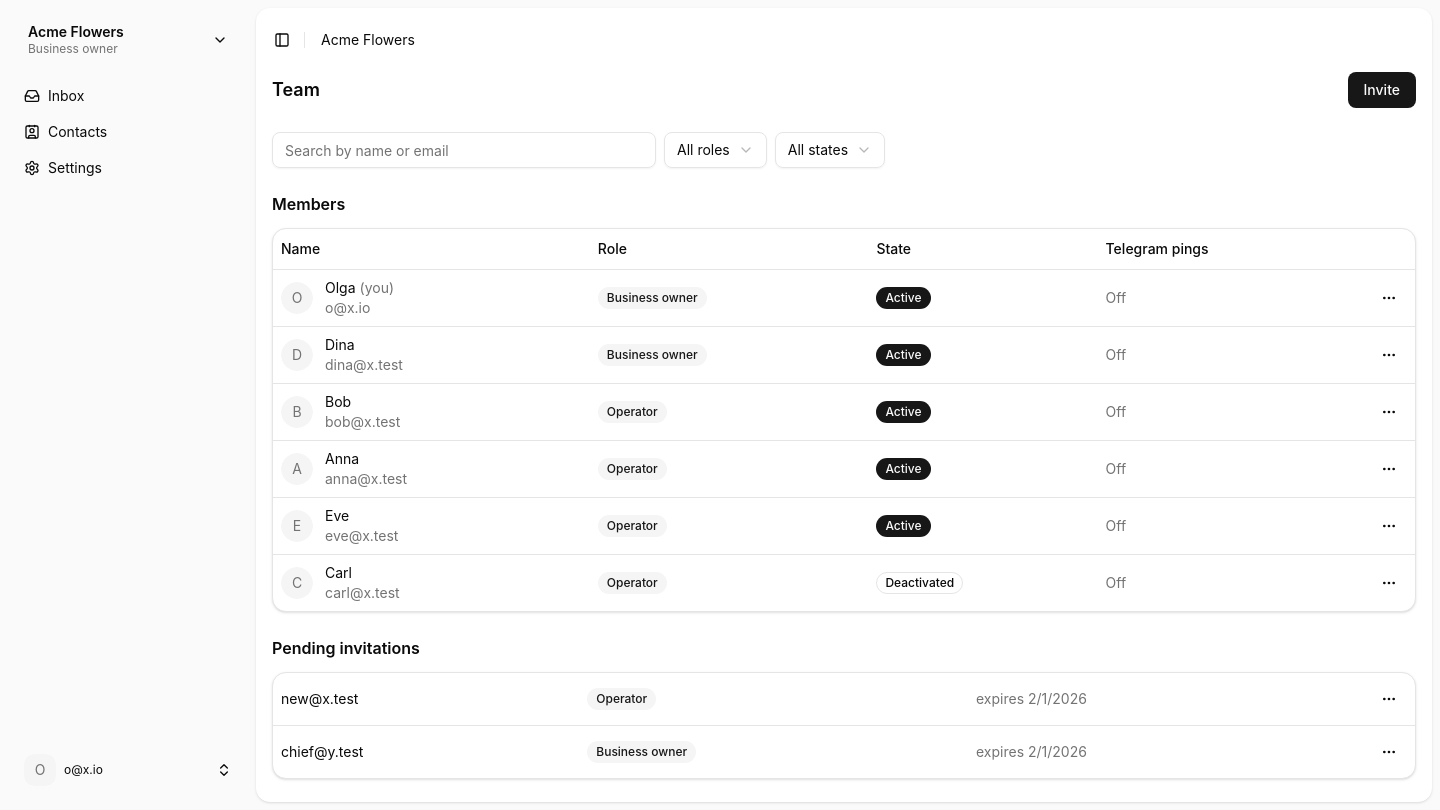
Scenario: Team filters (SCR-12, AC-08) › the search is case-insensitive over name and email
Expected: the text "Bob" is shown, [325, 392, 351, 410]
Step 1. Type "ANNA@X" into the field with placeholder "Search by name or email" → (464, 150), box [272, 132, 656, 168]
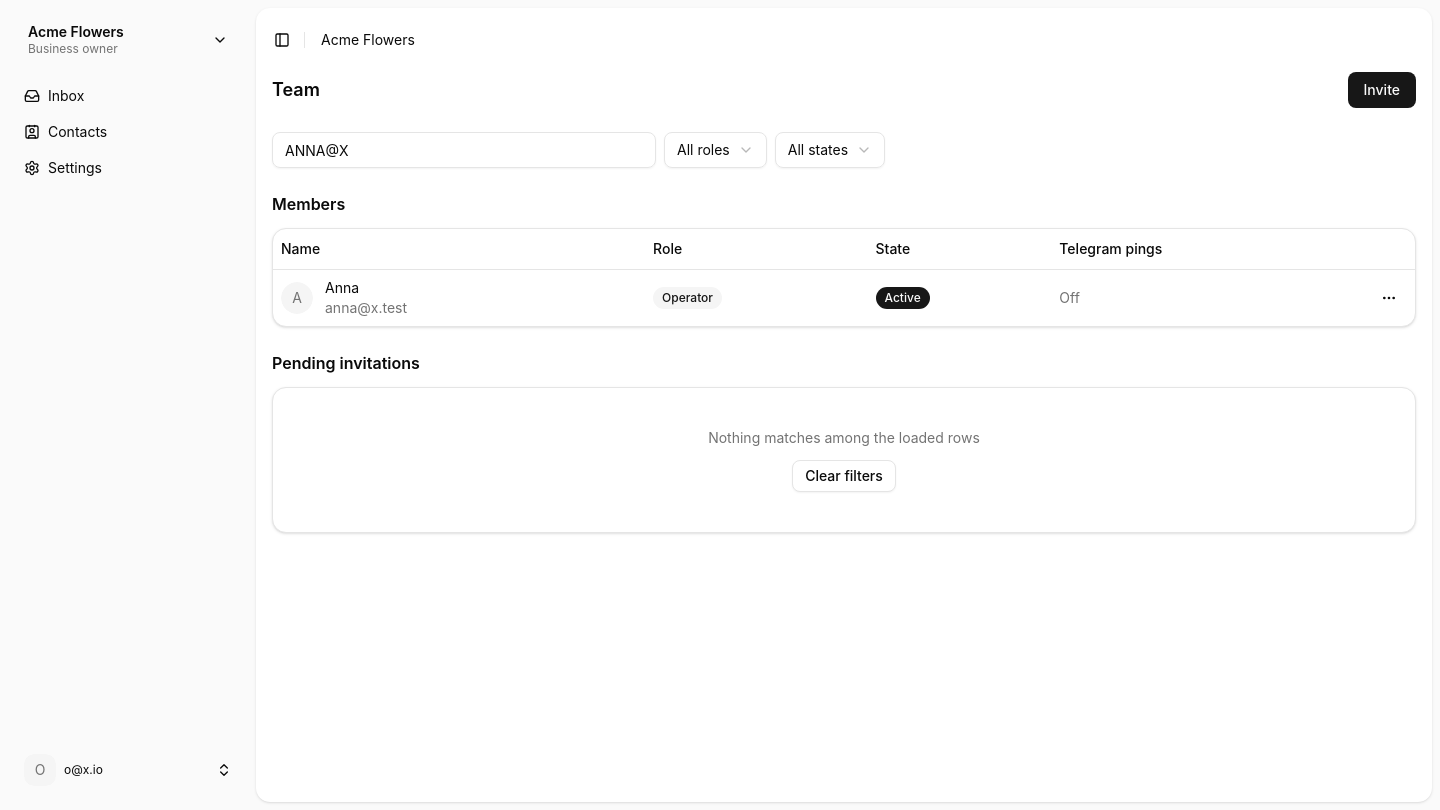
Expected: the text "Anna" is shown, [325, 278, 359, 296]
Result: the text "Bob" is gone
Step 2. Replace the text in the field named "Search by name or email" with "dIn" → (464, 150), box [272, 132, 656, 168]
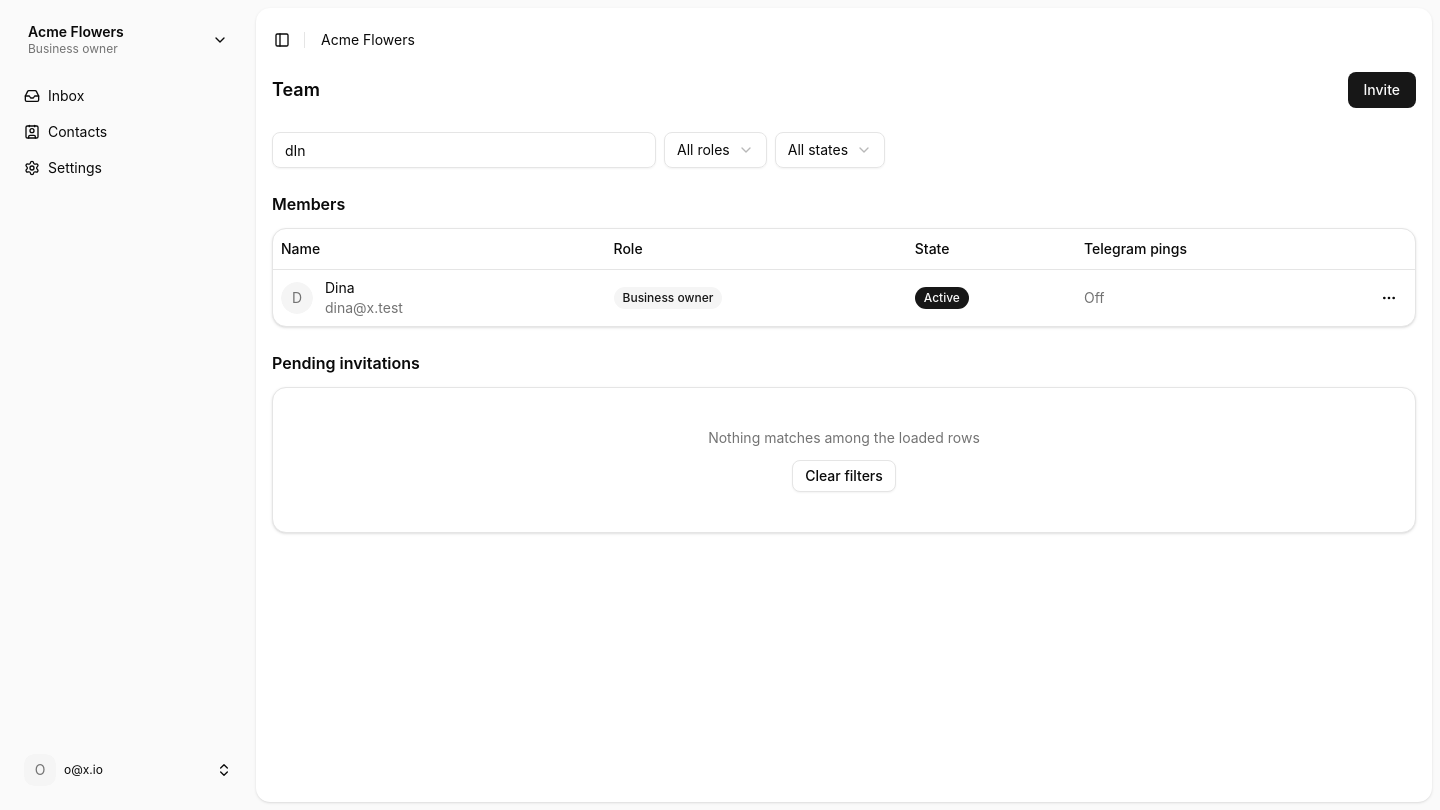
Result: the text "Dina" is shown at [325, 278, 355, 296]
Result: the text "Anna" is gone
